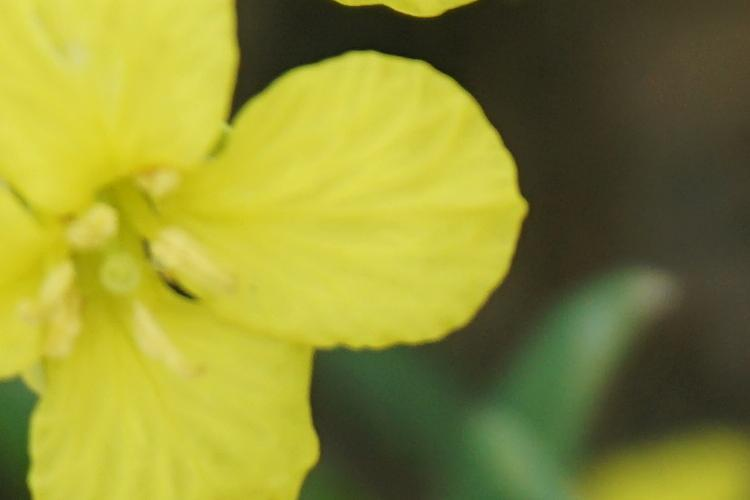yellow: (3, 2, 516, 500)
